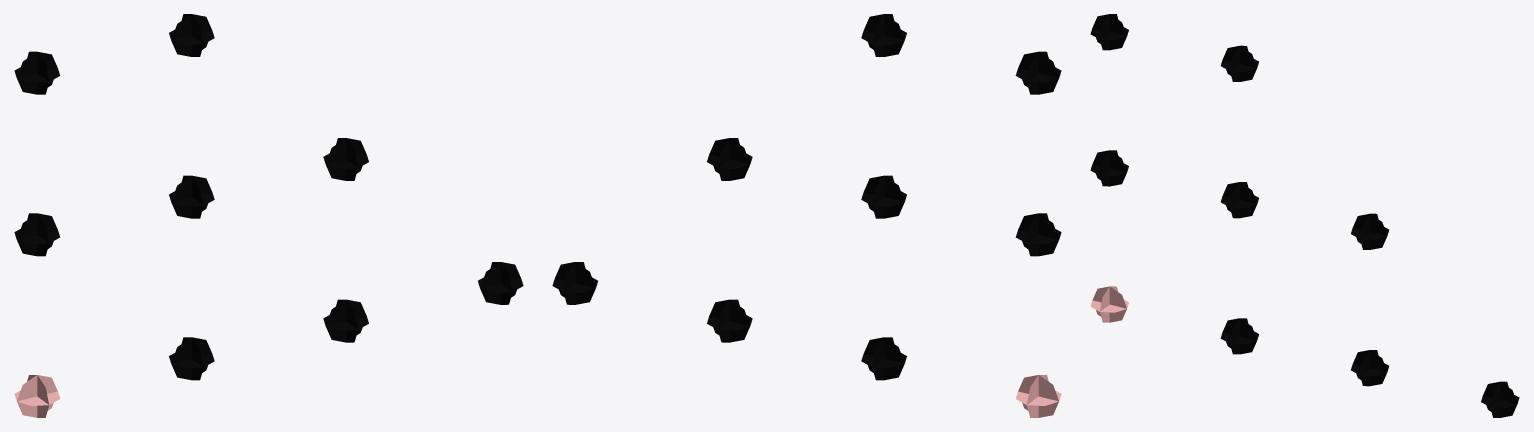
File: match_graph_no_coords.gltf
3 views of the same model, side by side, from view 1: azimuth 30°, elevation 25°; view 2: azimuth 150°, elevation 25°; view 3: azimuth 330°, elevation 25° (orthographic). The views are drawn at different scales.
Size of the model in its own units: 9.8 by 6.8 by 0.8.
